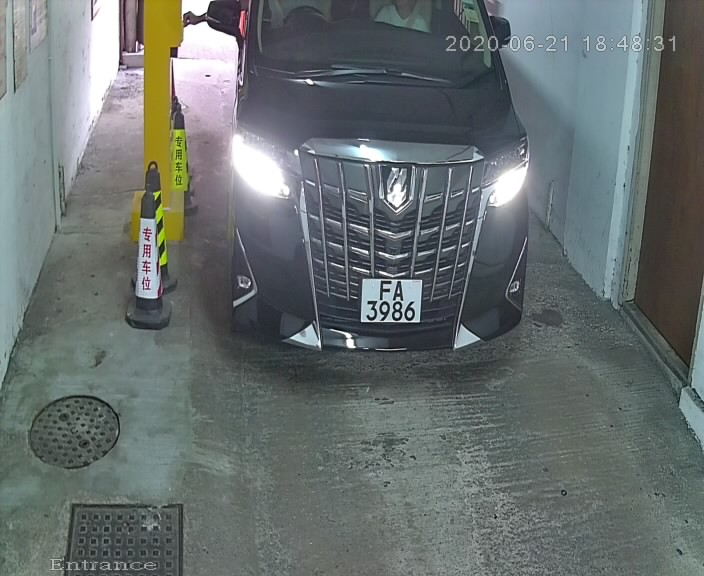privatecar: (201, 1, 562, 414)
